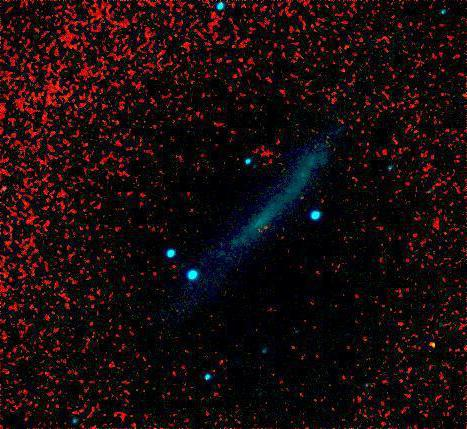star: (419, 331, 449, 361)
